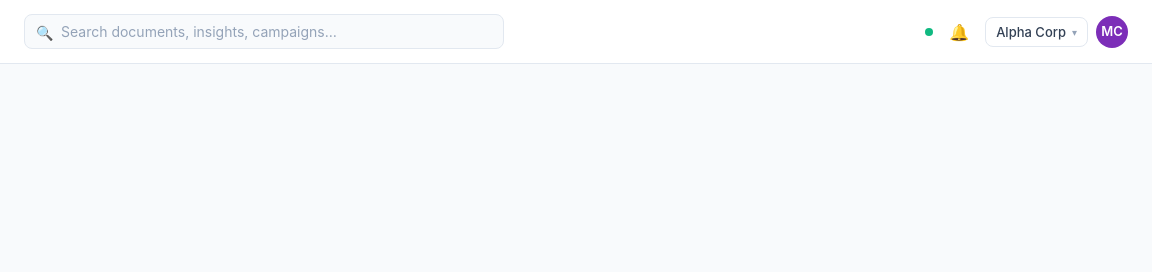
Header — search results dropdown › Escape key closes search dropdown and clears query
Type "brand" into the search field.
click(264, 32); type("brand")  # box [24,14,504,49]
Wait 500 ms
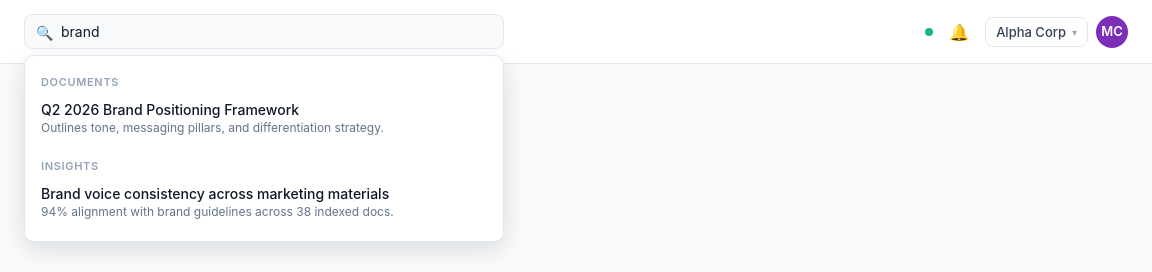
Check: the list with test id "search-dropdown" is shown, box [24,55,504,242]
Press Escape in the search field, box [24,14,504,49]
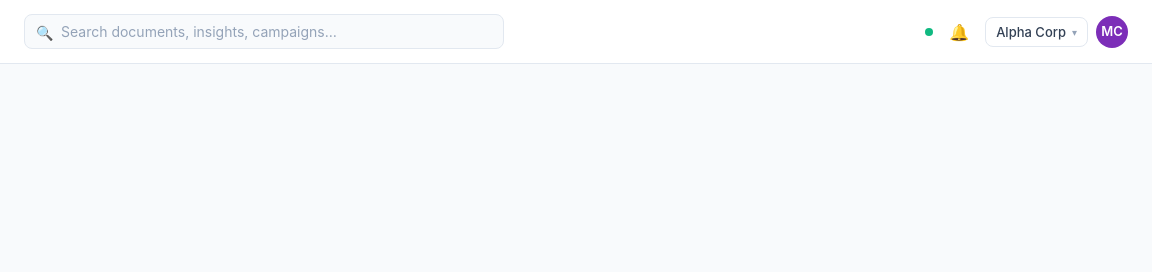
Check: the list with test id "search-dropdown" is gone
